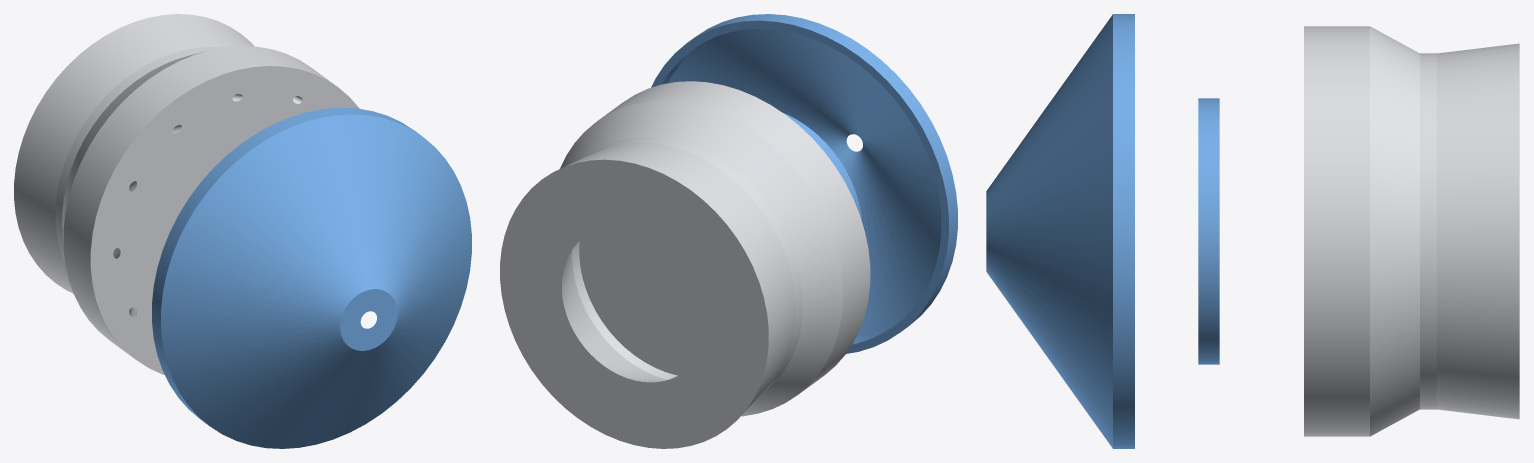
Rendered from rde.glb.
3 renders of one model, left to right at view 1: azimuth 30°, elevation 25°; view 2: azimuth 150°, elevation 25°; view 3: azimuth 270°, elevation 25°, orthographic. The views are drawn at different scales.
Parts seen in each view (by area): view 1: Part 1, Part 2; view 2: Part 2, Part 1; view 3: Part 2, Part 1.
Boxes of the visible parts, x1,y1,x2,y2 form: Part 1: [152, 107, 471, 448]; Part 2: [14, 14, 359, 374]; Part 2: [500, 81, 870, 448]; Part 1: [651, 14, 957, 353]; Part 2: [1304, 26, 1519, 436]; Part 1: [986, 14, 1219, 448].
Size of the model in its own units: 0.1305 by 0.1307 by 0.1603.
